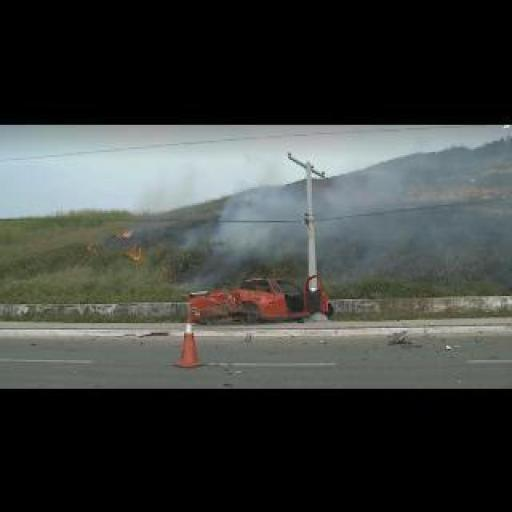smoke: (171, 186, 372, 291), (125, 246, 142, 261), (118, 230, 133, 237)
